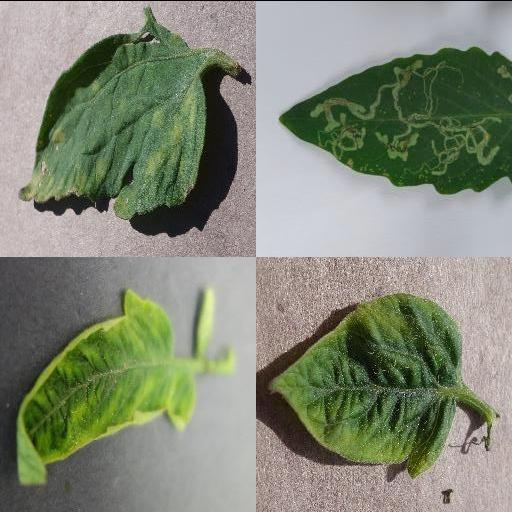Leaf Miner: (278, 44, 510, 196)
Leaf Mold: (18, 6, 206, 220)
Yellow Leaf Curl Virus: (266, 292, 462, 476), (17, 289, 197, 485)
